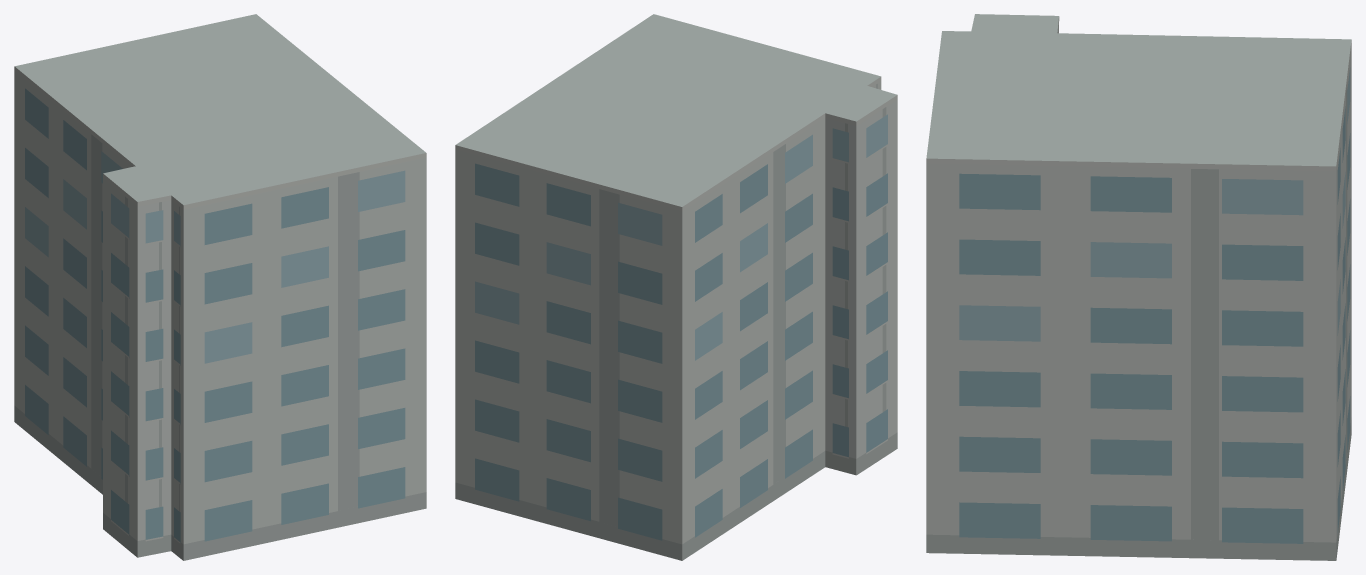
The model's file is survey-upis-32558834.glb.
The picture shows the model from 3 angles, left to right: view 1: azimuth 30°, elevation 25°; view 2: azimuth 150°, elevation 25°; view 3: azimuth 270°, elevation 25°; orthographic projection. The views are drawn at different scales.
Parts seen in each view (by area): view 1: survey-upis-32558834.tmp; view 2: survey-upis-32558834.tmp; view 3: survey-upis-32558834.tmp.
Part boxes in pixels (<box>): survey-upis-32558834.tmp: <box>14,14,426,560</box>; survey-upis-32558834.tmp: <box>455,14,897,560</box>; survey-upis-32558834.tmp: <box>926,14,1351,560</box>.
Bounding box in the file's own units: 15.45 × 18.62 × 18.21.
